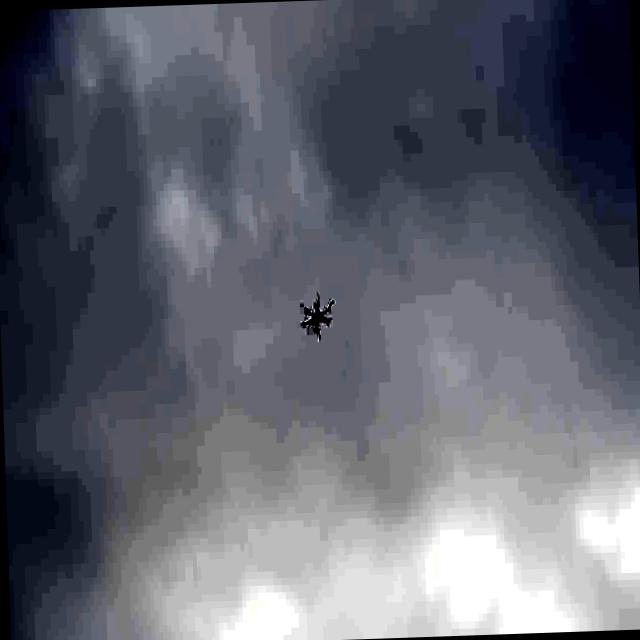drone: (299, 290, 336, 340)
